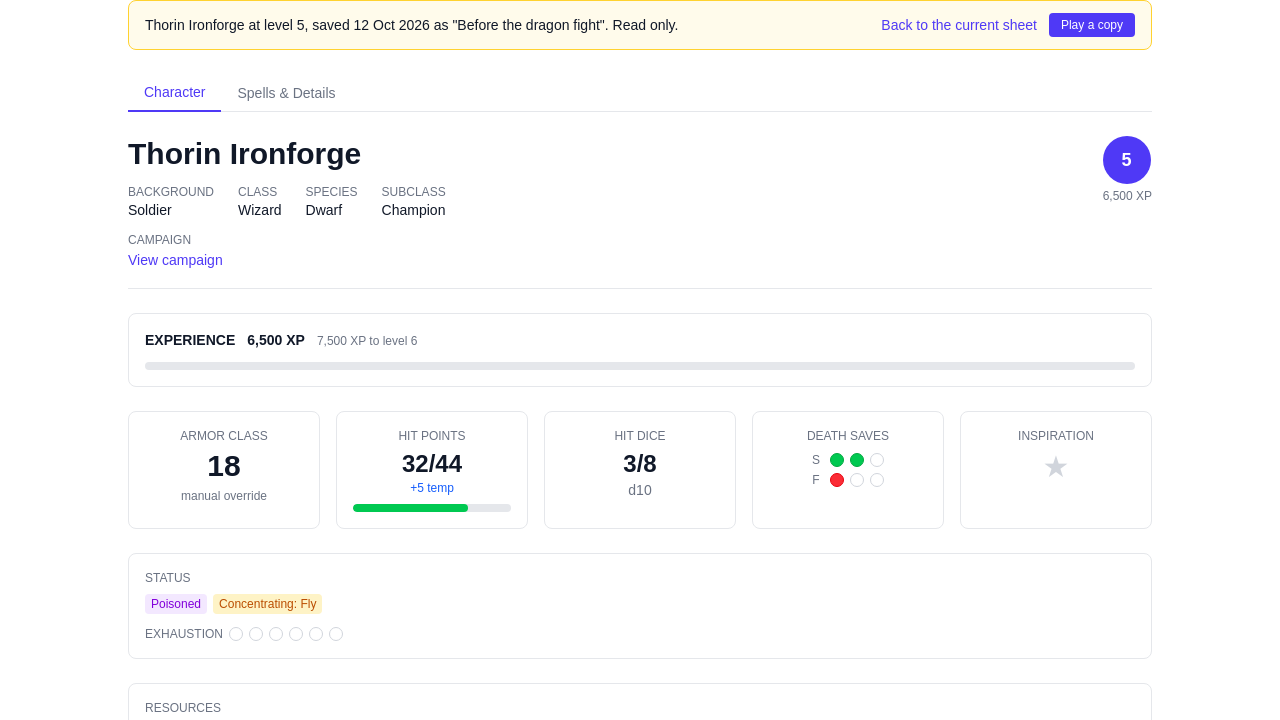
Test: CharacterSnapshotPage read only (VEG-645) › shows no write control on the Spells & Details tab
Expected: the message with test id "snapshot-banner" is shown, 128,0 -> 1152,50
Expected: the element with test id "campaign-membership" is shown, 128,233 -> 223,268
Click the tab "Spells & Details". click: click(286, 93)
box: 222,74 -> 352,112
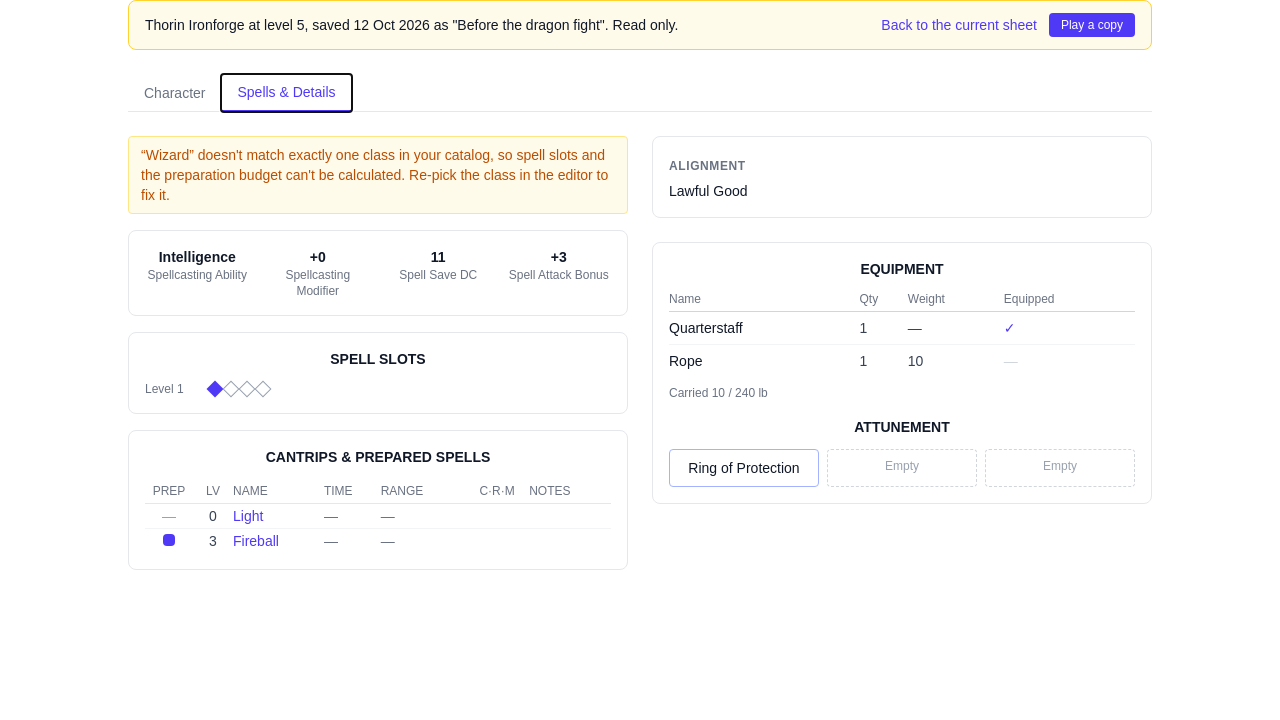
Now the text "Ring of Protection" is shown, box 688,460 -> 800,476
Now the text "Quarterstaff" is shown, box 669,312 -> 860,344
